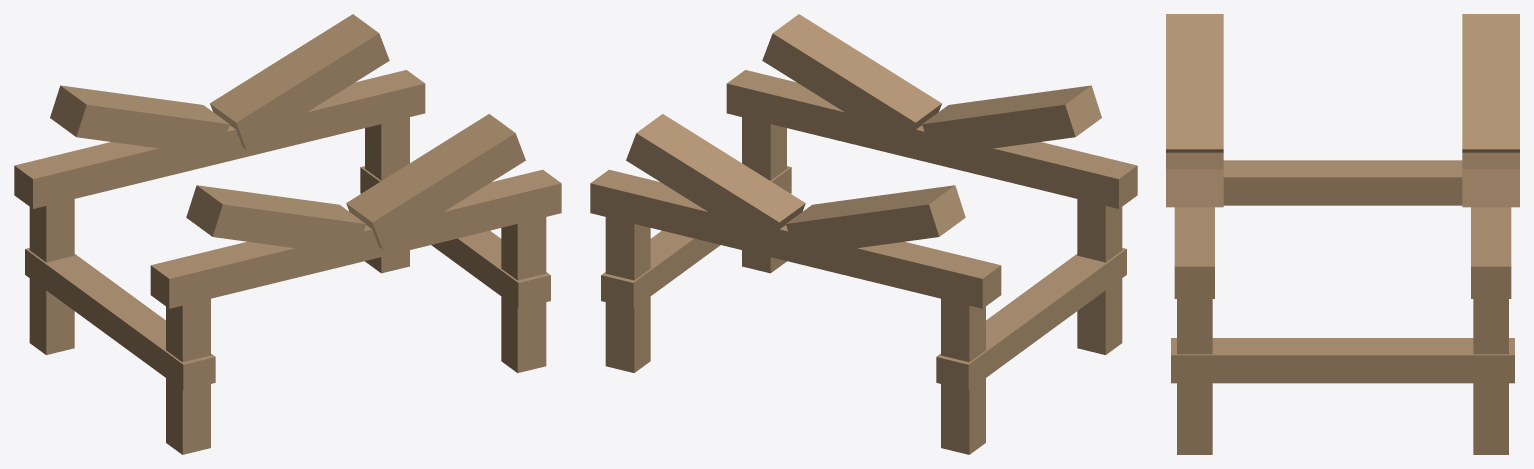
Rendered from lighthouse-and-rocky-coast-lens-overhaul-cradle-f7192c76__36593.glb.
The picture shows the model from 3 angles, left to right: view 1: azimuth 30°, elevation 25°; view 2: azimuth 150°, elevation 25°; view 3: azimuth 270°, elevation 25°; orthographic projection. The views are drawn at different scales.
Parts seen in each view (by area): view 1: lens-overhaul-cradle; view 2: lens-overhaul-cradle; view 3: lens-overhaul-cradle.
Part boxes in pixels (x1,y1,x2,y2): lens-overhaul-cradle: (14, 14, 561, 454); lens-overhaul-cradle: (590, 14, 1137, 454); lens-overhaul-cradle: (1166, 14, 1519, 454).
Size of the model in its own units: 2.06 by 1.23 by 1.48.
